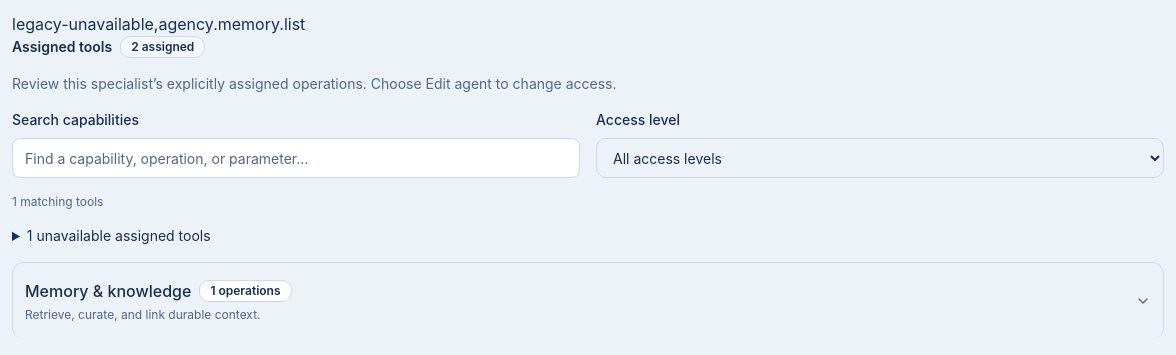
Test: specialist capability selection › limits specialist browsing to assigned operations and retains unavailable IDs
The image size is (1176, 355).
Expected: the text "1 matching tools" is shown, [12, 194, 104, 210]
Expected: the heading "1 unavailable assigned tools" is shown, [27, 227, 211, 244]
Type "browser" into the field labelled "Search capabilities" at coordinates (296, 158), box [12, 138, 580, 178]
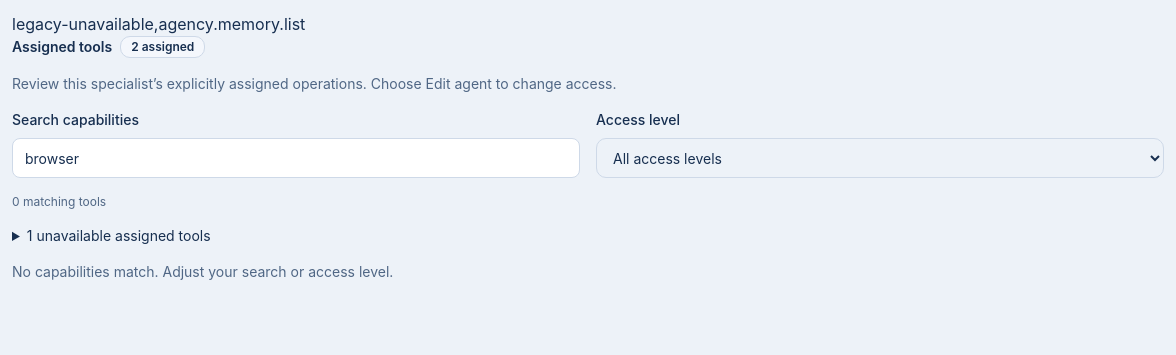
Expected: the text named "Selected IDs" reads "legacy-unavailable,agency.memory.list", [12, 14, 305, 34]
Result: the text "0 matching tools" is shown at [12, 194, 106, 210]
